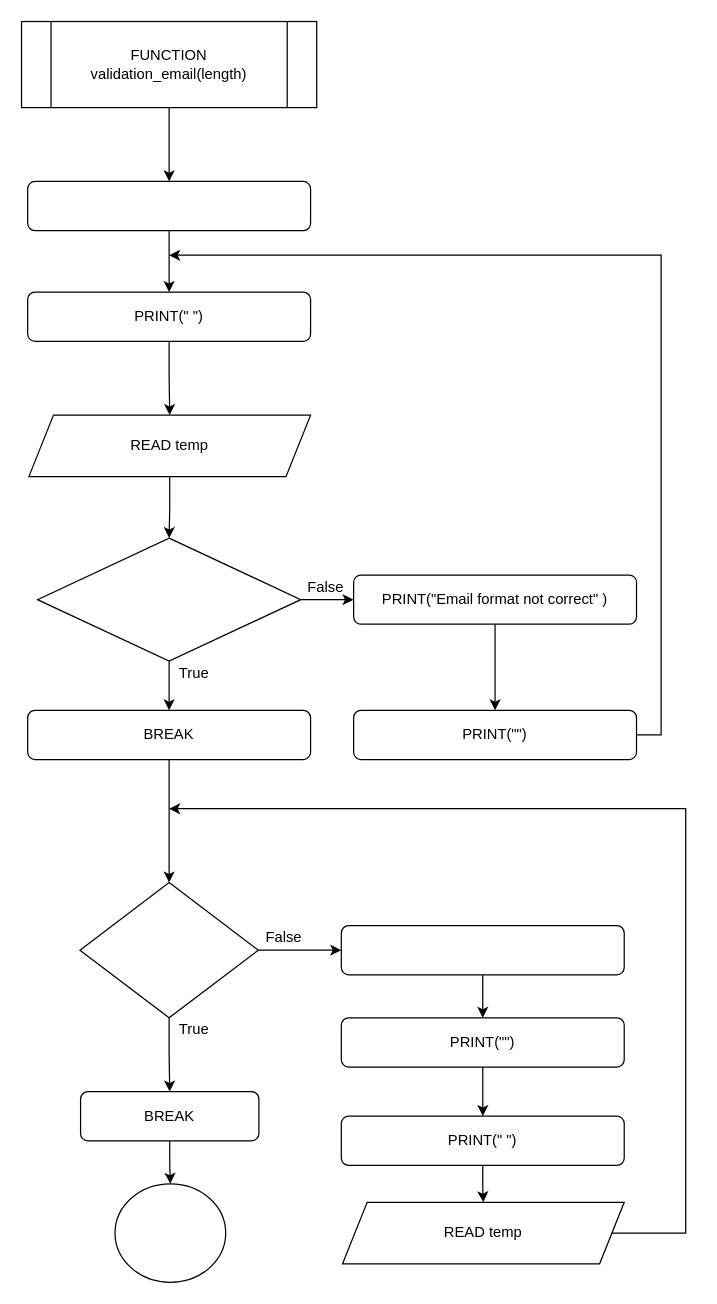
The diagram is 717 pixels wide and 1304 high, and some of its shapes have lost their labels. The centre of each missing label's shape, as x and y in pixels:
"@" IN temp AND ".com" IN temp: pixel 168 599
LEN(temp) <= length: pixel 168 949
length = int(length): pixel 168 205
PRINT("You cannot exceed " + str(length) + " characters" ): pixel 482 949
RETURN temp: pixel 170 1232
